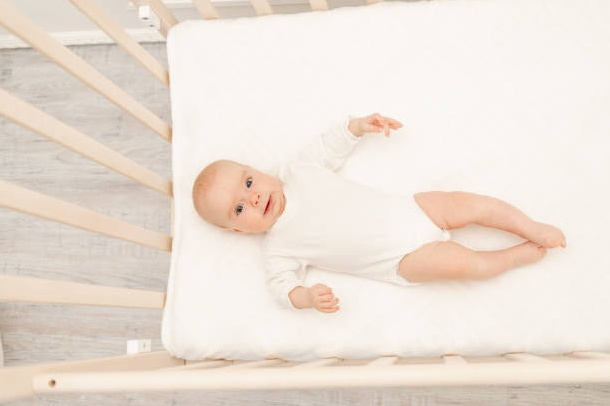baby: (193, 114, 565, 312)
crib: (0, 351, 609, 400)
